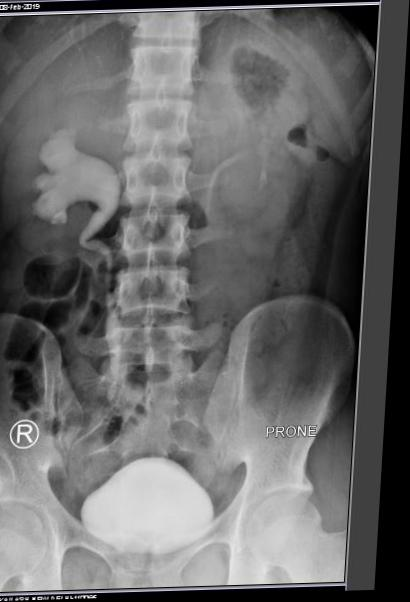bladder: (81, 464, 253, 582)
left kidney: (225, 37, 351, 240)
right kidney: (0, 85, 138, 271)
vertebrae: (132, 95, 219, 157)
